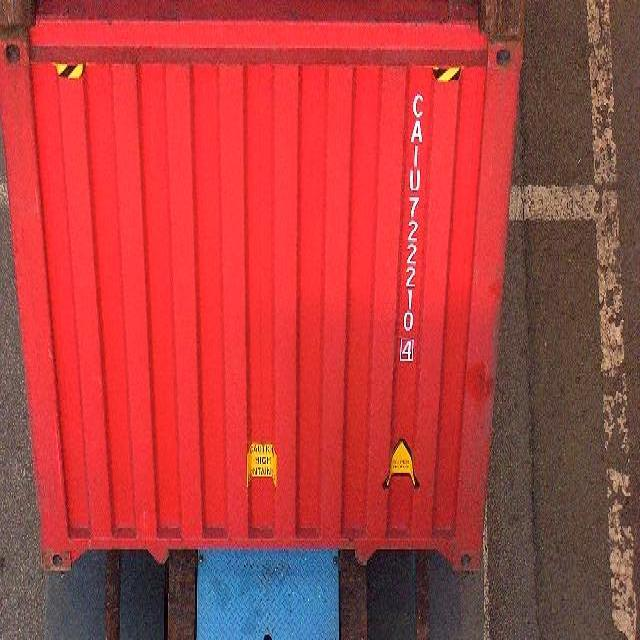container_number: (396, 82, 434, 368)
